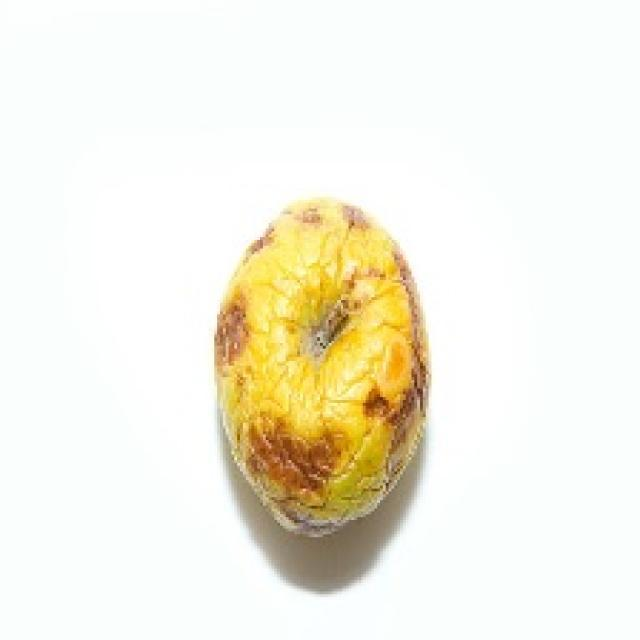apple: (215, 199, 428, 534)
